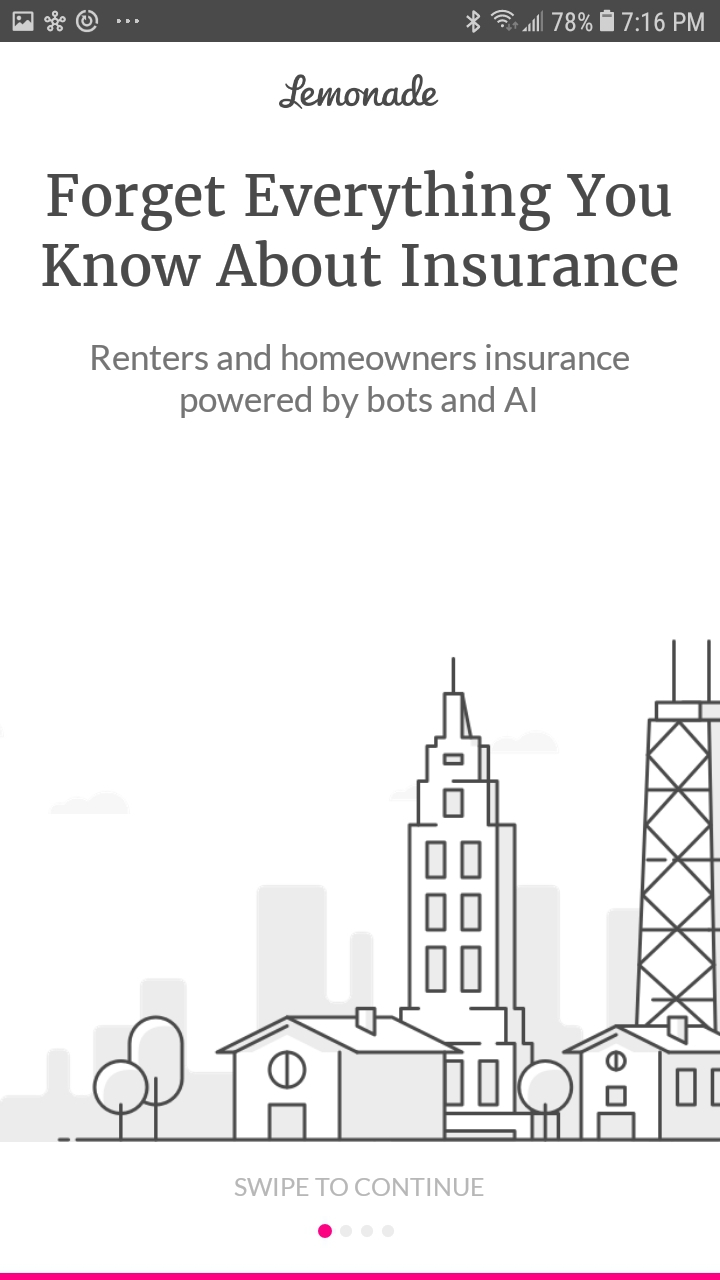Image: (1, 639, 720, 1141), (279, 75, 439, 111)
PageIndicator: (317, 1223, 395, 1239)
Text: (42, 174, 678, 288), (92, 344, 630, 419), (235, 1177, 484, 1197)
UpperTaskBar: (1, 1, 720, 43)
